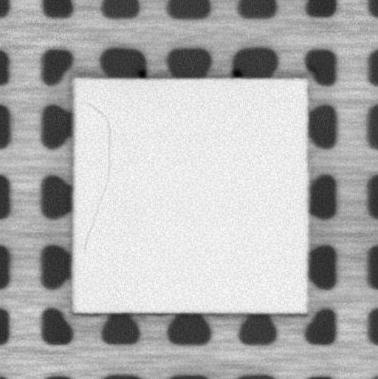DIE_CRACK: (81, 100, 114, 253)
